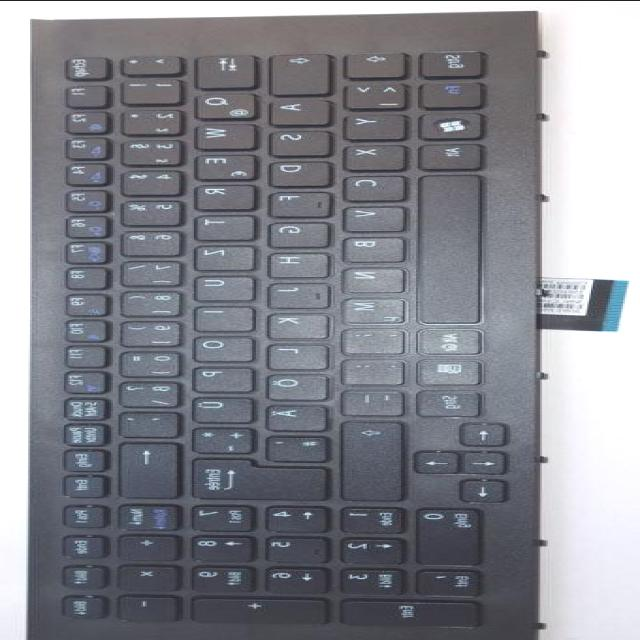0: (111, 346, 175, 374)
1: (113, 75, 177, 101)
2: (115, 106, 177, 132)
3: (113, 136, 177, 162)
4: (113, 166, 177, 192)
5: (113, 197, 177, 223)
6: (113, 227, 177, 253)
7: (113, 257, 177, 283)
8: (111, 287, 177, 313)
9: (111, 317, 175, 343)
a: (262, 96, 326, 122)
accent: (111, 408, 175, 434)
ae: (258, 401, 322, 429)
alt-left: (410, 140, 478, 166)
altgr-right: (409, 324, 477, 352)
b: (333, 232, 399, 260)
c: (335, 172, 401, 198)
caret: (113, 52, 177, 71)
comma: (333, 324, 399, 352)
d: (260, 157, 326, 183)
del: (109, 438, 173, 494)
e: (187, 151, 253, 177)
enter: (181, 455, 322, 497)
f: (260, 188, 326, 214)
g: (260, 219, 324, 244)
h: (260, 249, 324, 275)
hash: (256, 432, 324, 458)
i: (187, 303, 249, 329)
j: (258, 279, 324, 305)
k: (258, 310, 324, 336)
keyboard: (24, 23, 528, 640)
l: (258, 341, 324, 367)
less: (335, 79, 401, 105)
m: (333, 293, 401, 321)
minus: (333, 386, 399, 412)
n: (333, 263, 399, 291)
o: (185, 332, 249, 358)
oe: (258, 371, 324, 397)
p: (185, 363, 249, 389)
plus: (183, 423, 249, 451)
point: (333, 355, 399, 381)
q: (187, 90, 253, 116)
r: (187, 181, 253, 207)
s: (262, 127, 326, 153)
shift-left: (337, 48, 401, 74)
shift-lock: (260, 49, 326, 91)
shift-right: (331, 417, 397, 498)
space: (409, 171, 479, 321)
ss: (111, 377, 173, 405)
strg-left: (410, 47, 478, 75)
strg-right: (409, 386, 475, 414)
t: (187, 211, 251, 237)
tab: (187, 51, 253, 85)
u: (187, 272, 251, 298)
ue: (185, 393, 251, 421)
v: (335, 203, 401, 229)
w: (185, 120, 251, 146)
x: (335, 141, 401, 167)
y: (337, 111, 401, 137)
z: (187, 242, 251, 268)
